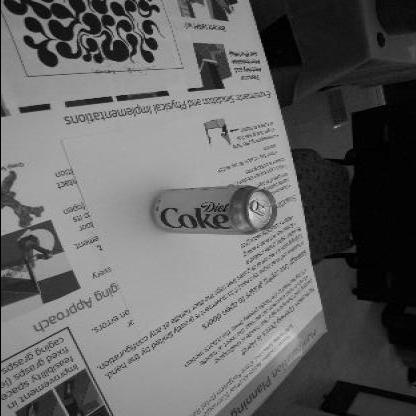alumunium_can: (150, 184, 280, 236)
